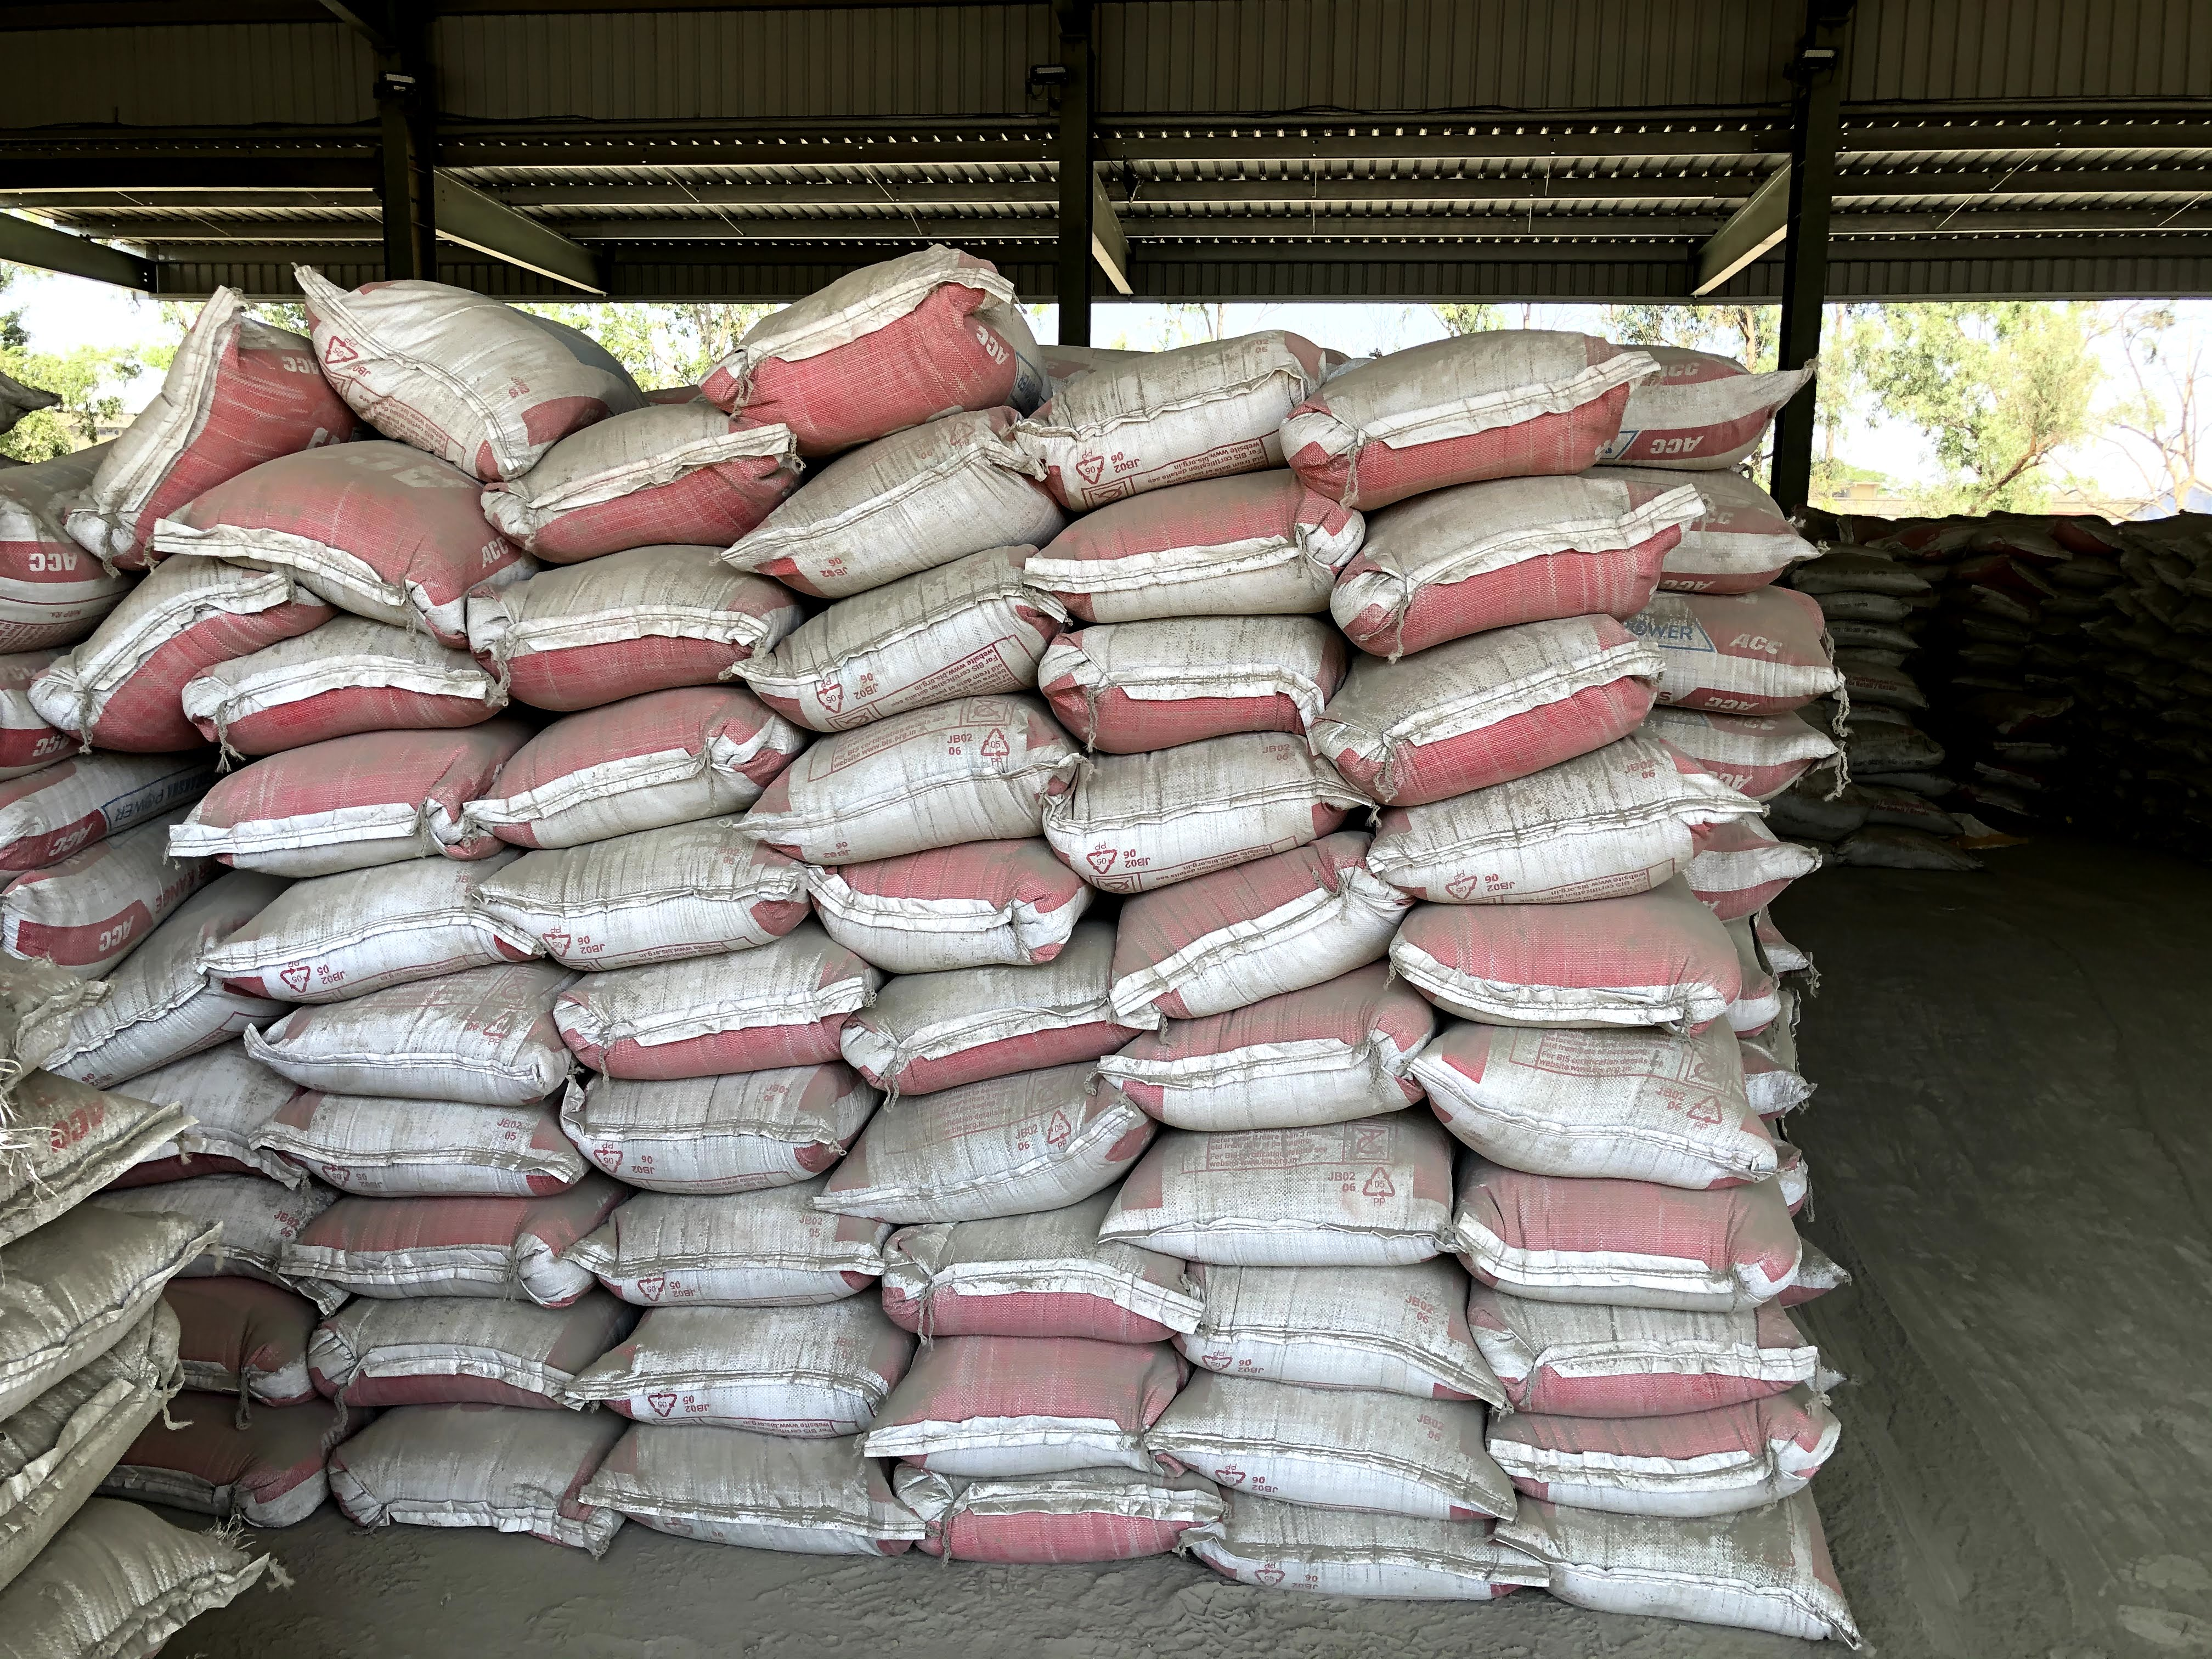cement bag: (712, 237, 1059, 455), (1399, 1012, 1771, 1199), (1306, 472, 1717, 640), (1268, 329, 1646, 504), (275, 263, 564, 486), (160, 444, 496, 634), (1352, 753, 1738, 913), (728, 404, 1038, 601), (723, 694, 1094, 850), (1306, 629, 1670, 788), (1439, 1162, 1803, 1319), (1134, 1371, 1493, 1530), (726, 549, 1062, 716), (1393, 877, 1750, 1028), (1521, 1499, 1869, 1654), (66, 263, 266, 530), (1090, 1131, 1456, 1274), (24, 535, 301, 723), (817, 1068, 1150, 1223), (475, 817, 805, 972), (857, 1213, 1204, 1358), (1453, 1284, 1824, 1419), (469, 538, 787, 692), (1096, 852, 1393, 1016), (158, 727, 482, 873), (1169, 1267, 1500, 1410), (568, 1290, 890, 1436), (1477, 1392, 1850, 1518), (542, 939, 881, 1075), (242, 972, 568, 1114), (475, 692, 782, 842), (1010, 603, 1331, 746), (317, 1403, 624, 1551), (1031, 742, 1357, 880), (1103, 986, 1420, 1127), (571, 1436, 892, 1575), (799, 833, 1096, 983), (291, 1293, 608, 1432), (1181, 1497, 1515, 1624), (838, 953, 1150, 1087), (251, 1086, 589, 1208), (500, 399, 791, 540), (860, 1335, 1151, 1476), (1022, 493, 1353, 617), (1017, 329, 1285, 472), (216, 857, 505, 988), (561, 1175, 873, 1295), (272, 1183, 585, 1302), (178, 627, 503, 739), (878, 1460, 1224, 1565), (554, 1079, 850, 1188)
